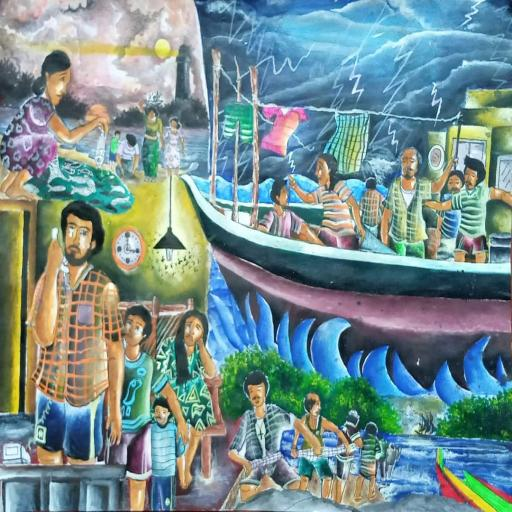person: (27, 206, 124, 467), (4, 39, 112, 205), (229, 374, 302, 498), (171, 310, 213, 491), (309, 154, 361, 252), (388, 146, 430, 258), (289, 388, 350, 460), (121, 306, 150, 442), (462, 153, 498, 260), (259, 172, 305, 246), (150, 403, 179, 512), (354, 410, 387, 492), (138, 107, 166, 185), (437, 161, 463, 243), (354, 174, 384, 232), (162, 119, 188, 181), (99, 124, 127, 176), (118, 132, 142, 182)
